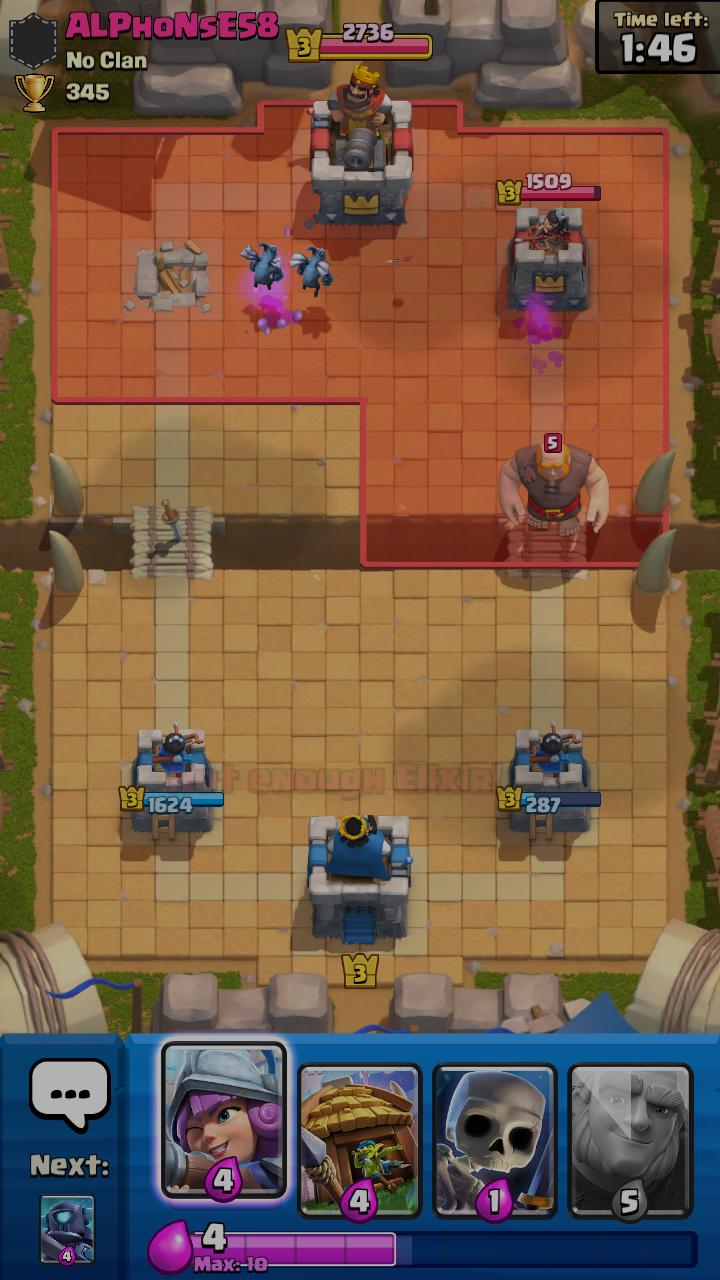ally: (290, 246, 334, 297), (239, 243, 284, 290)
enemy: (498, 433, 610, 537)
